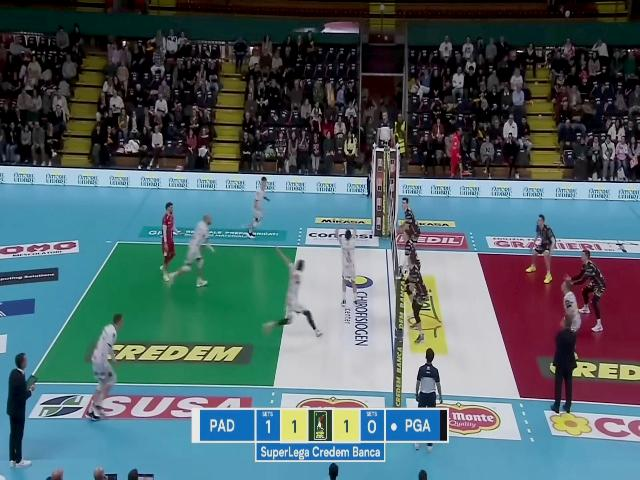volleyball court: (26, 240, 639, 406)
